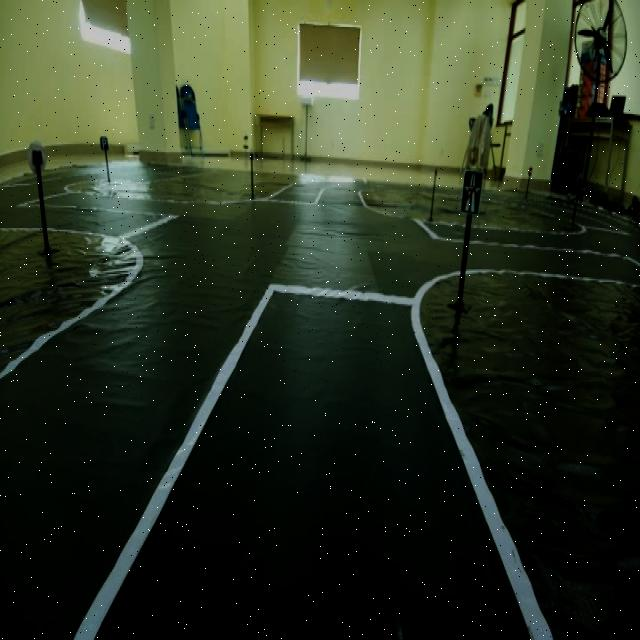highway_exit: (462, 172, 484, 219)
